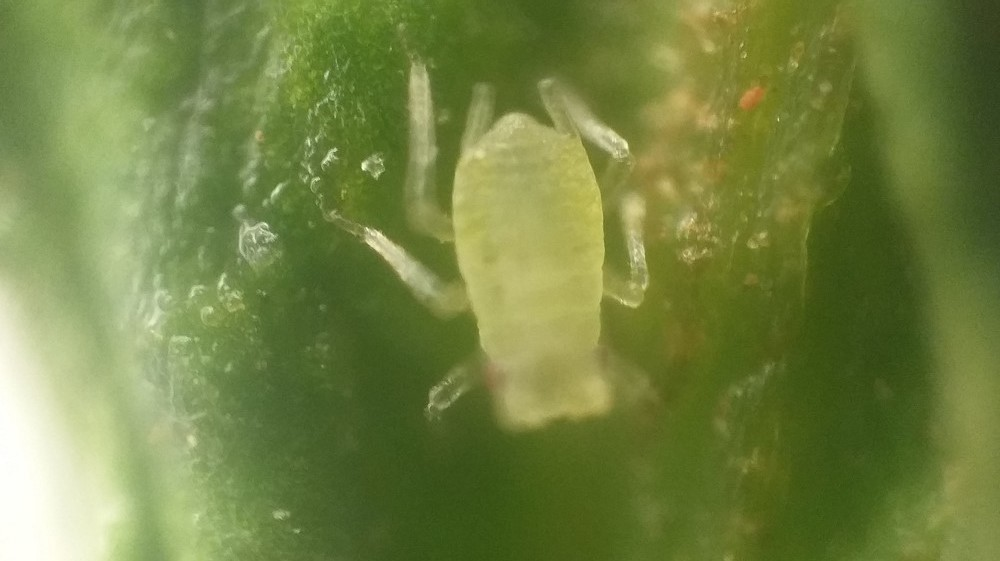Pulgon: (332, 51, 690, 459)
